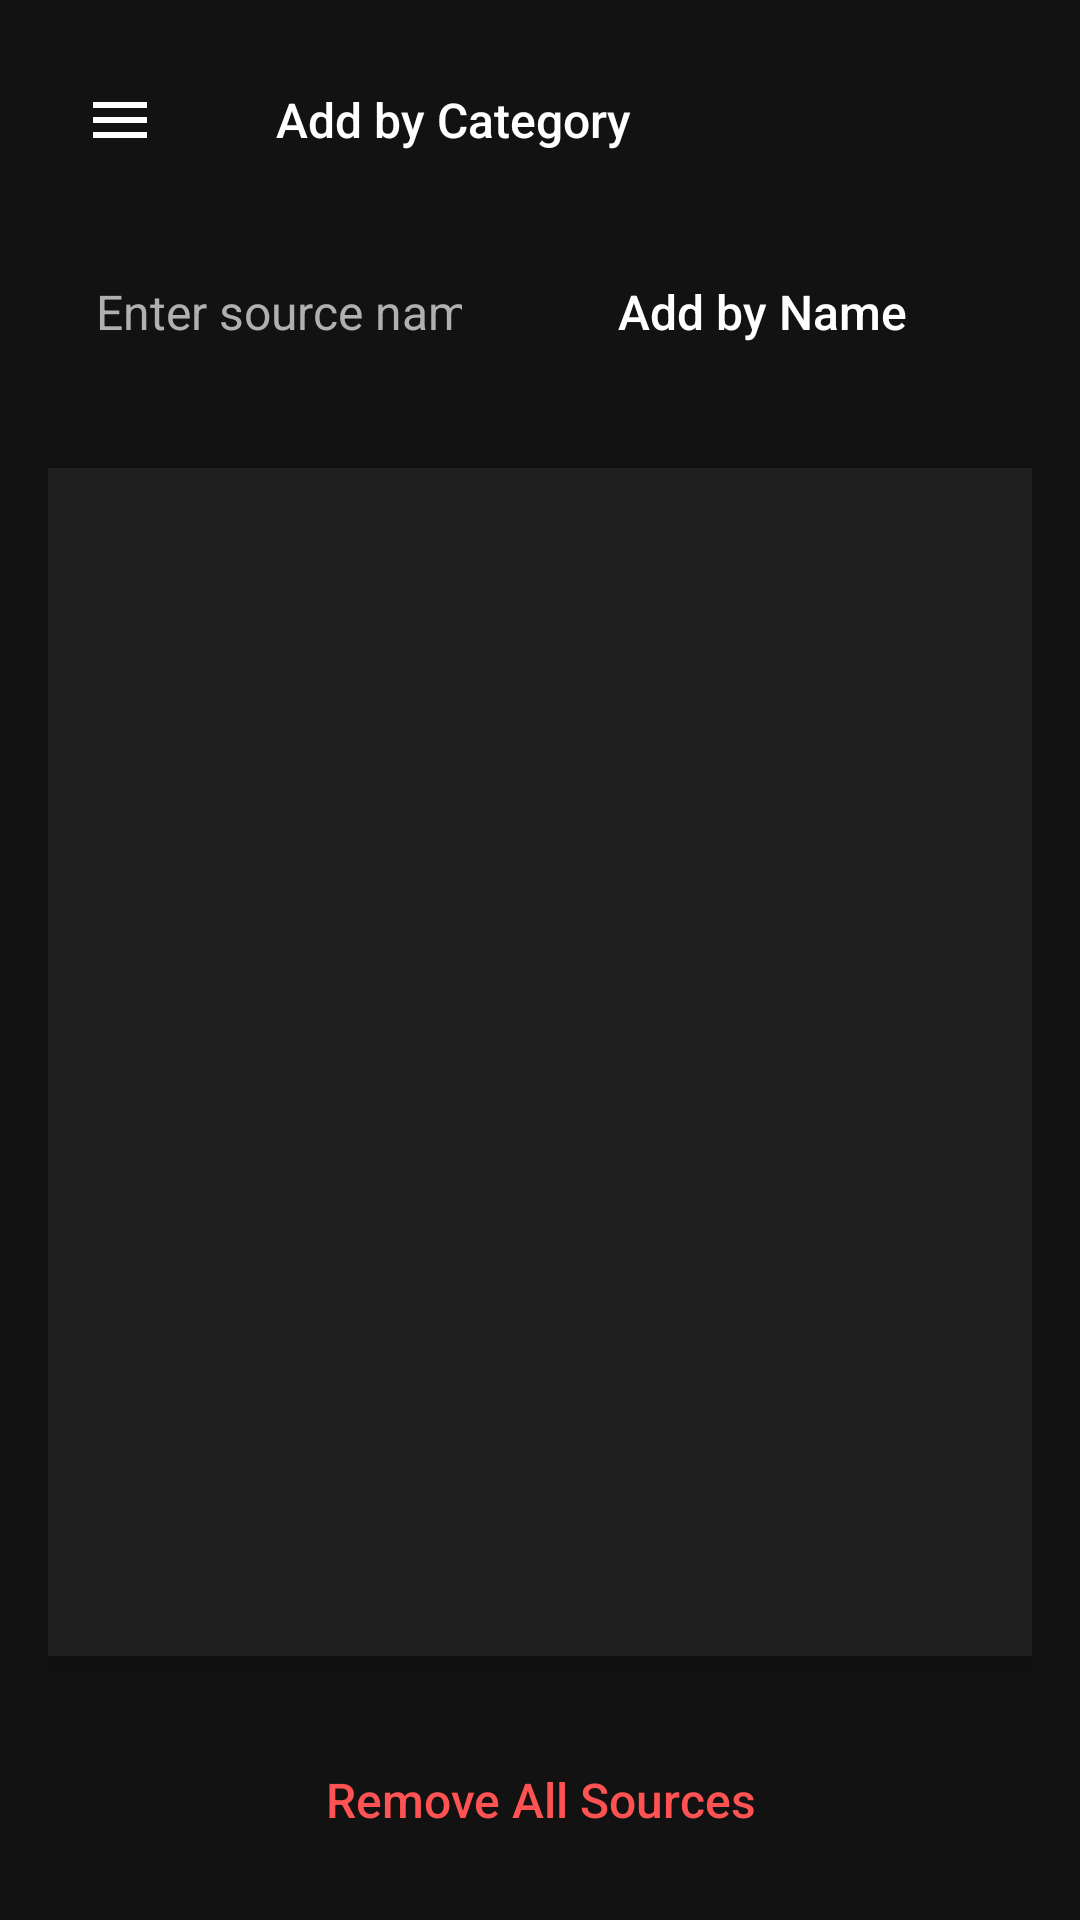

Screen size 1080*1920. Icon name, then its center in pixels as point (x, y):
Select Category: point (120, 120)
